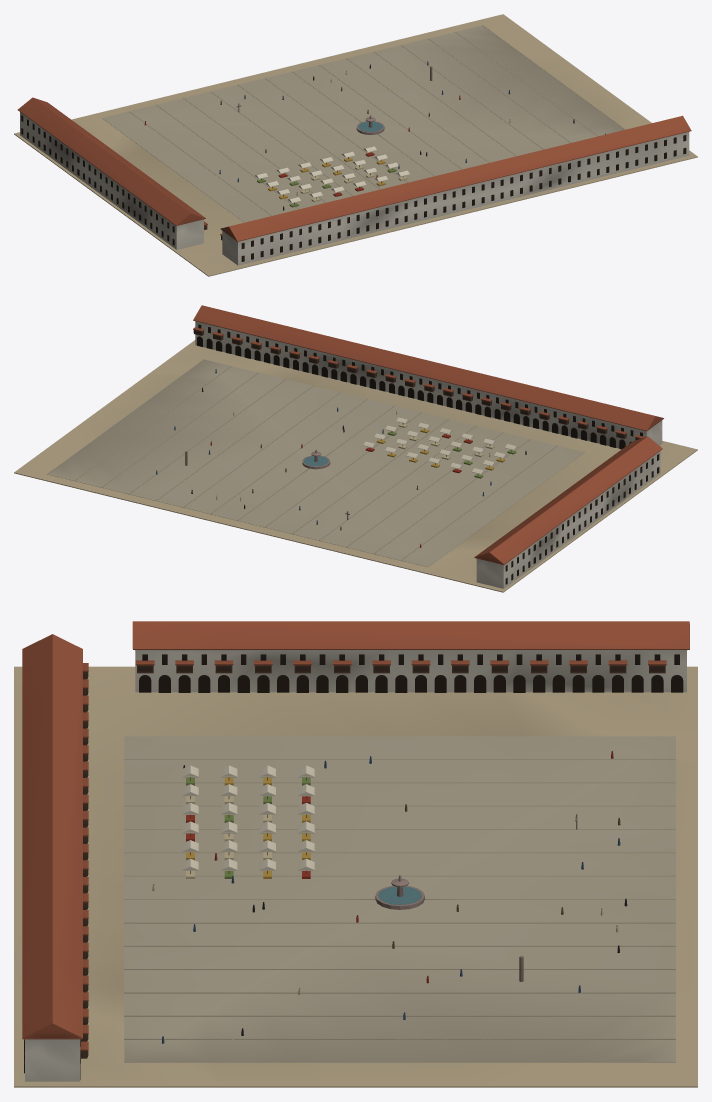
Rendered from plaza-1650.glb.
3 views of the same model, one above another, from view 1: azimuth 30°, elevation 25°; view 2: azimuth 150°, elevation 25°; view 3: azimuth 270°, elevation 25° (orthographic). The views are drawn at different scales.
Visible parts, largest first — view 1: p0_plaza, p1_portales, p2_market; view 2: p0_plaza, p2_market, p1_portales; view 3: p0_plaza, p2_market, p1_portales.
Part boxes in pixels (left/top/right/bottom): p0_plaza: left=14, top=14, right=697, bottom=276; p1_portales: left=20, top=66, right=689, bottom=265; p2_market: left=17, top=61, right=691, bottom=241; p0_plaza: left=14, top=340, right=697, bottom=592; p2_market: left=156, top=305, right=663, bottom=564; p1_portales: left=185, top=321, right=662, bottom=588; p0_plaza: left=14, top=666, right=697, bottom=1087; p2_market: left=22, top=621, right=689, bottom=1050; p1_portales: left=24, top=650, right=687, bottom=1081.
Size of the model in its own units: 180 by 12.27 by 124.
